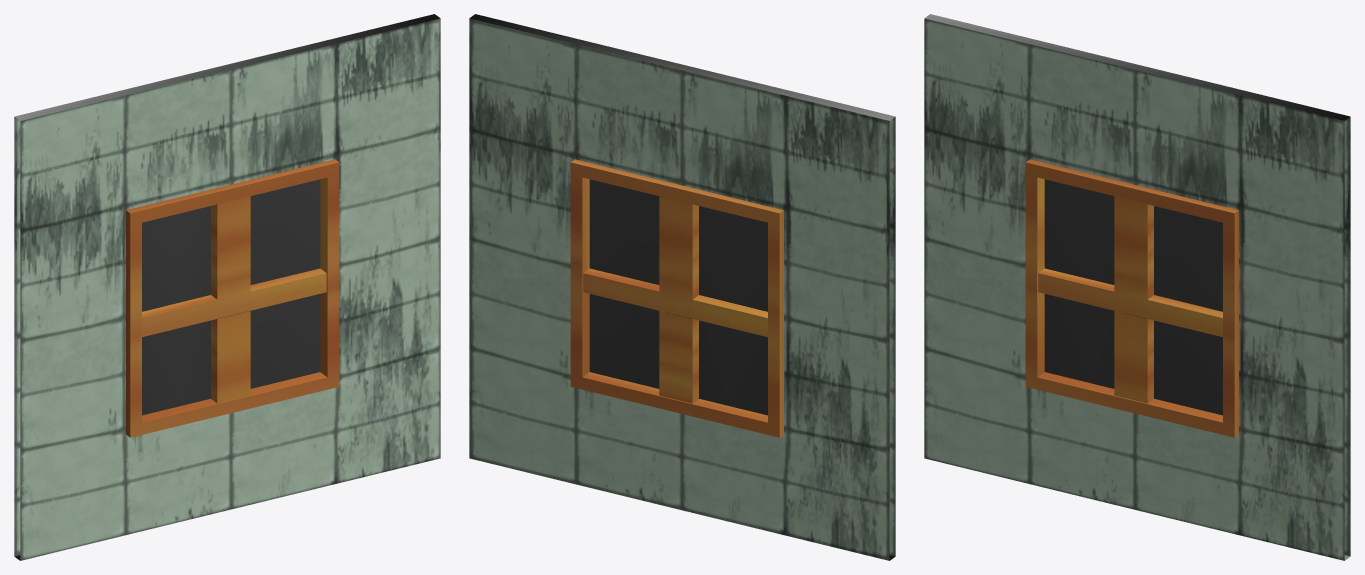
The model's file is sm_wall_window_02x005x02_a.fbx.
3 views of the same model, side by side, from view 1: azimuth 30°, elevation 25°; view 2: azimuth 150°, elevation 25°; view 3: azimuth 330°, elevation 25° (orthographic).
Visible parts, largest first — view 1: sm_wall_window_02x005x02_a; view 2: sm_wall_window_02x005x02_a; view 3: sm_wall_window_02x005x02_a.
Boxes of the visible parts, left/top/right/bottom form: sm_wall_window_02x005x02_a: left=14, top=14, right=440, bottom=560; sm_wall_window_02x005x02_a: left=469, top=14, right=895, bottom=560; sm_wall_window_02x005x02_a: left=924, top=14, right=1350, bottom=560.
Size of the model in its own units: 200 by 200 by 12.02.
